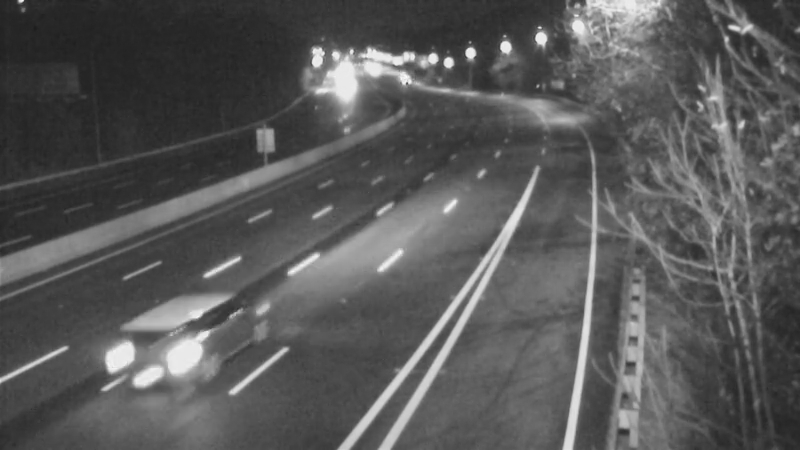vehicle: (94, 294, 204, 404), (382, 52, 432, 102)
